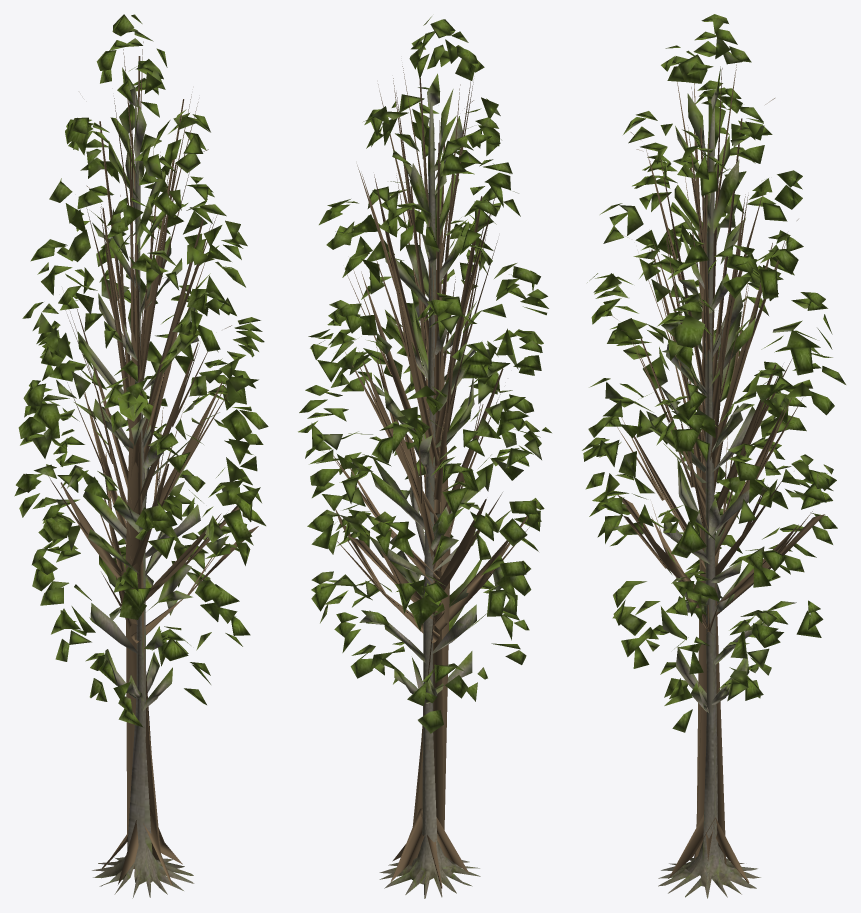
The model's file is upright-canopy-b.glb.
3 renders of one model, left to right at view 1: azimuth 30°, elevation 25°; view 2: azimuth 150°, elevation 25°; view 3: azimuth 270°, elevation 25°, orthographic.
Bounding box in the file's own units: 0.2685 × 0.9977 × 0.2791.
2 materials, 1 textured.
